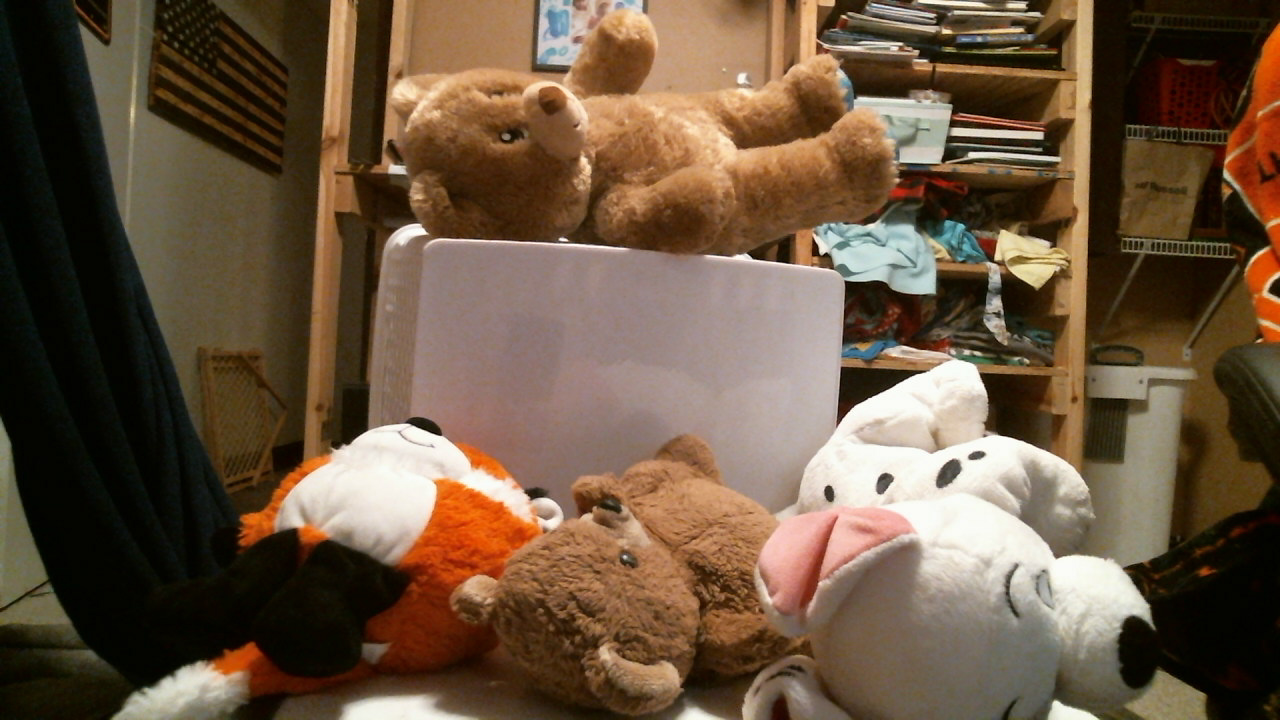Little_Mister_Bear: (578, 503, 674, 574)
